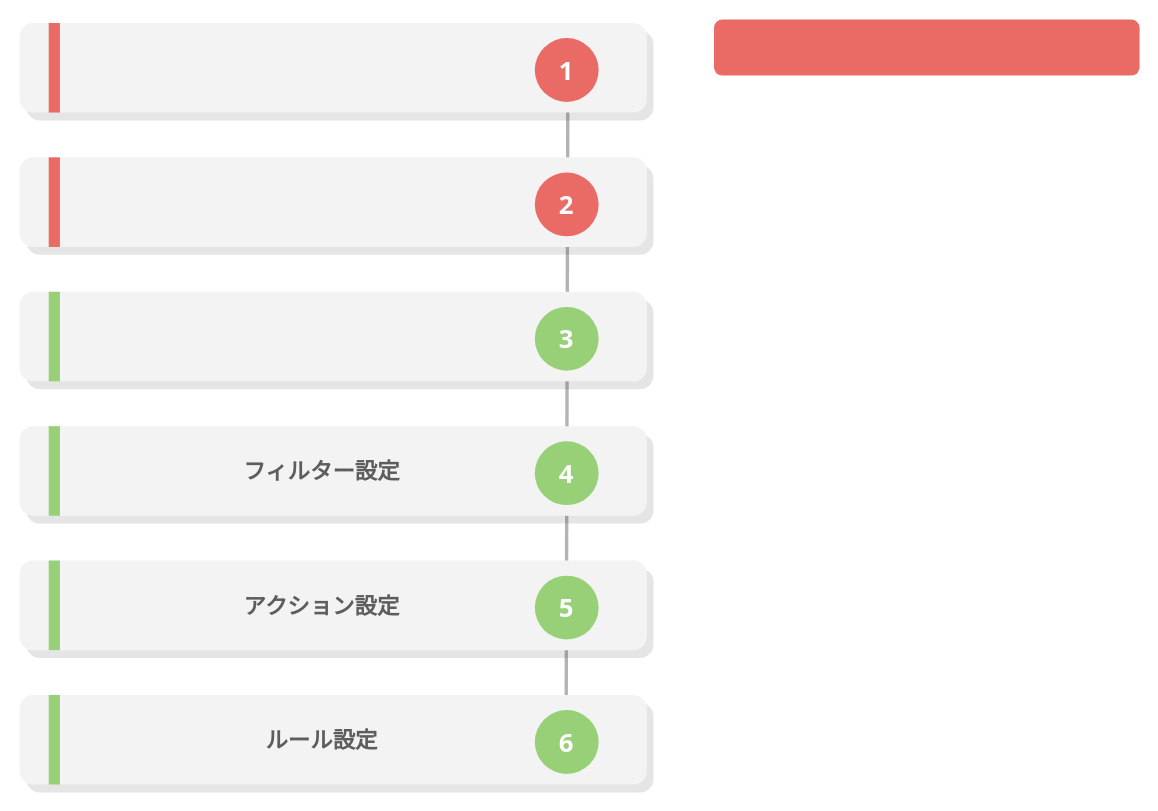
Image size: 1158x811. Some labels were removed from this diagram. The shapes that lost their labels are listed below. From the top down, each one's box as (x1, y1, x2, y2) in pixels, then its label:
(19, 22, 646, 112): イベント収集設定
(713, 19, 1139, 75): エージェントの利用に必要な作業
(19, 157, 646, 246): エージェントのインストール・起動
(19, 291, 646, 381): ラベル設定
